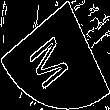M_NE: (30, 22, 80, 88)
